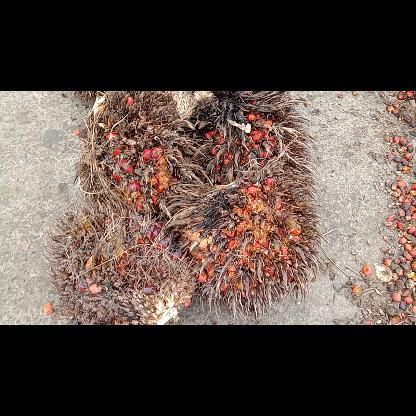Terlalu masak: (181, 160, 325, 317), (43, 196, 194, 324), (74, 90, 196, 212), (186, 90, 317, 184)
